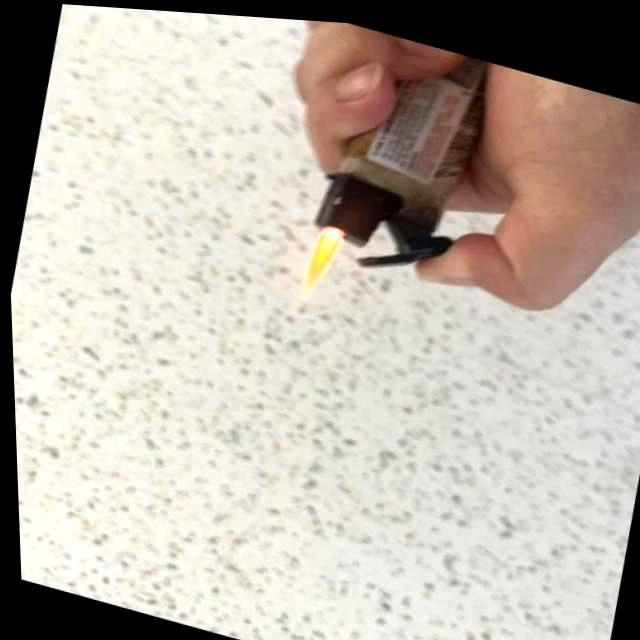fire: (292, 218, 346, 294)
